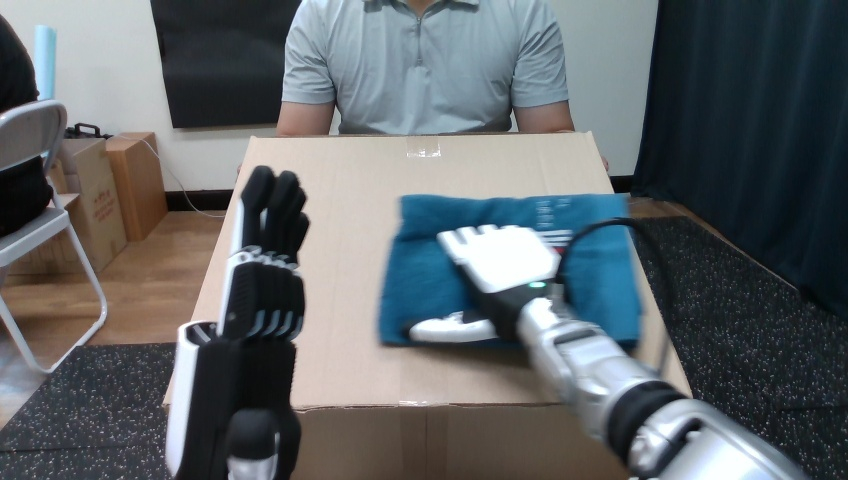left robot hand: (409, 225, 805, 478), (166, 166, 308, 478)
